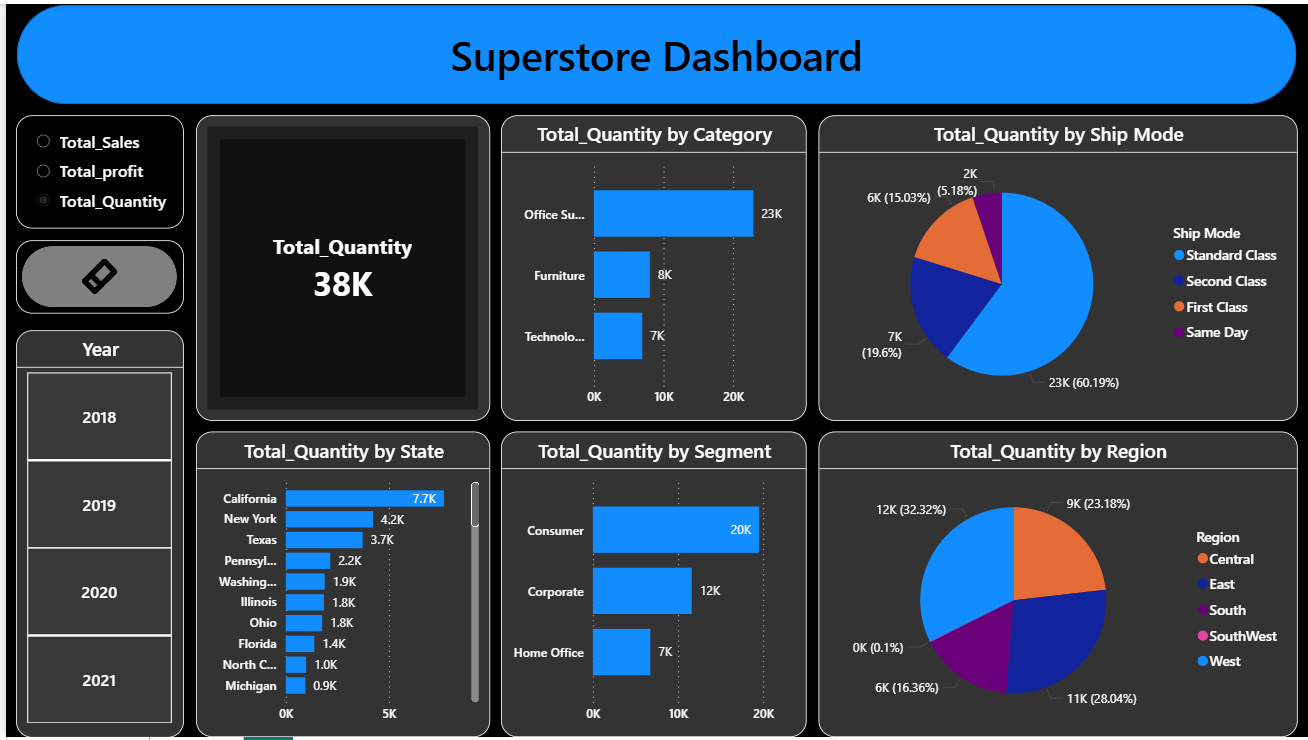

This screenshot's page, from the dashboard's own definition file:
{"tool":"powerbi","page":{"name":"Page 1","canvas":[1280,720],"ordinal":0},"visuals":[{"type":"shape","box":[10.1,0,1258.1,99.6],"z":5000},{"type":"listSlicer","fields":{"Values":["Orders.Order Date.Variation.Date Hierarchy.Year"]},"box":[10.1,320.3,164.5,399.6],"z":6000},{"type":"actionButton","box":[10.1,232.3,164.5,72.1],"z":6001},{"type":"slicer","fields":{"Values":["Parameter.Parameter"]},"box":[10.1,109.6,164.5,111.1],"z":6002},{"type":"cardVisual","fields":{"Data":["Orders.Total_Quantity"]},"box":[186.1,109.6,288.6,300.1],"z":6003},{"type":"barChart","fields":{"Category":["Orders.Category"],"Y":["Orders.Total_Quantity"]},"box":[486.2,109.6,300.1,300.1],"z":6004},{"type":"barChart","fields":{"Category":["Orders.Segment"],"Y":["Orders.Total_Quantity"]},"box":[486,420,300,300],"z":6005},{"type":"barChart","fields":{"Category":["Orders.State"],"Y":["Orders.Total_Quantity"]},"box":[186,420,289,300],"z":6006},{"type":"pieChart","fields":{"Category":["Orders.Ship Mode"],"Y":["Orders.Total_Quantity"]},"box":[797.8,109.6,470.3,300.1],"z":6007},{"type":"pieChart","fields":{"Category":["Orders.Region"],"Y":["Orders.Total_Quantity"]},"box":[798,420,470,300],"z":6008}]}

Visuals, with their boxes in screenshot pixels (x1, y1, x2, y2), scaled from the page's 1280x720 canvas onto the 1308x740 screenshot:
shape: (x1=10, y1=0, x2=1296, y2=102)
listSlicer - Orders.Order Date.Variation.Date Hierarchy.Year: (x1=10, y1=329, x2=178, y2=739)
actionButton: (x1=10, y1=239, x2=178, y2=313)
slicer - Parameter.Parameter: (x1=10, y1=113, x2=178, y2=227)
cardVisual - Orders.Total_Quantity: (x1=190, y1=113, x2=485, y2=421)
barChart - Orders.Category x Orders.Total_Quantity: (x1=497, y1=113, x2=804, y2=421)
barChart - Orders.Segment x Orders.Total_Quantity: (x1=497, y1=432, x2=803, y2=739)
barChart - Orders.State x Orders.Total_Quantity: (x1=190, y1=432, x2=485, y2=739)
pieChart - Orders.Ship Mode x Orders.Total_Quantity: (x1=815, y1=113, x2=1296, y2=421)
pieChart - Orders.Region x Orders.Total_Quantity: (x1=815, y1=432, x2=1296, y2=739)
